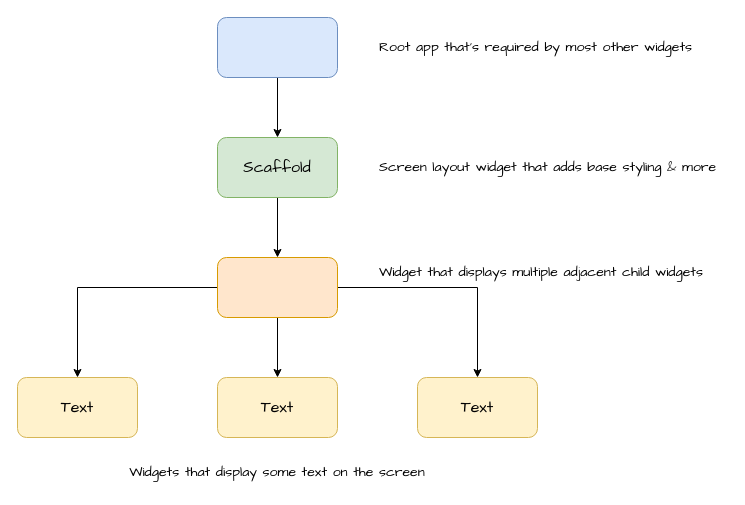
Some shapes in this 745 by 505 pixel diagram are drawn without their labels. The shapes that lost their labels are listed below. From the top down, each one's box as (x1, y1, x2, y2) in pixels, then its label:
(216, 16, 338, 78): MaterialApp
(216, 256, 338, 318): Row
